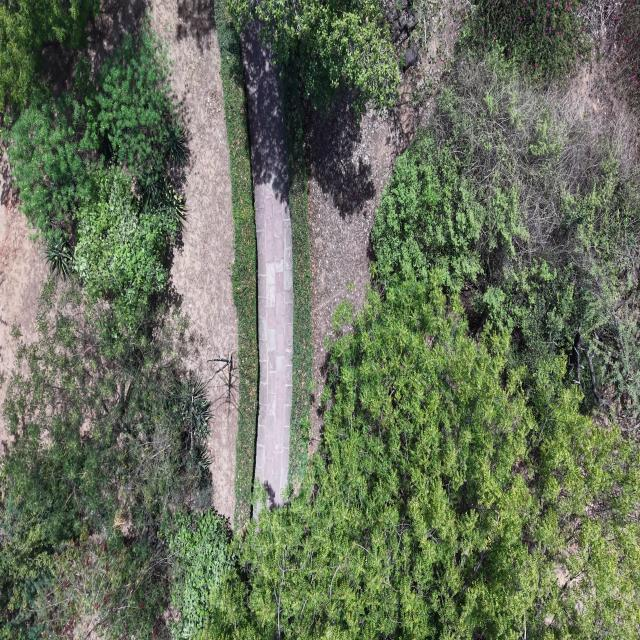DRY_AREA: (88, 0, 237, 524), (89, 0, 237, 518), (90, 0, 237, 518), (305, 0, 464, 453), (305, 0, 463, 454), (148, 0, 237, 525), (306, 100, 396, 454), (241, 20, 294, 508), (0, 155, 48, 454), (0, 156, 48, 406), (562, 16, 639, 170), (254, 504, 260, 517)
PATHWAYS: (247, 37, 287, 510)
VEGETATION_TREE: (0, 0, 639, 639), (197, 29, 639, 639), (201, 270, 639, 638), (0, 23, 211, 638), (372, 56, 639, 406), (0, 277, 210, 638), (7, 23, 187, 335), (7, 24, 186, 241), (372, 133, 518, 290), (215, 0, 258, 528), (216, 0, 257, 525), (228, 0, 400, 108), (7, 532, 170, 639), (73, 166, 181, 326), (94, 24, 187, 201), (8, 94, 99, 241), (281, 60, 311, 486), (0, 0, 98, 110), (462, 0, 591, 83), (169, 511, 231, 637), (589, 0, 639, 113), (622, 2, 639, 105), (45, 234, 72, 279)
